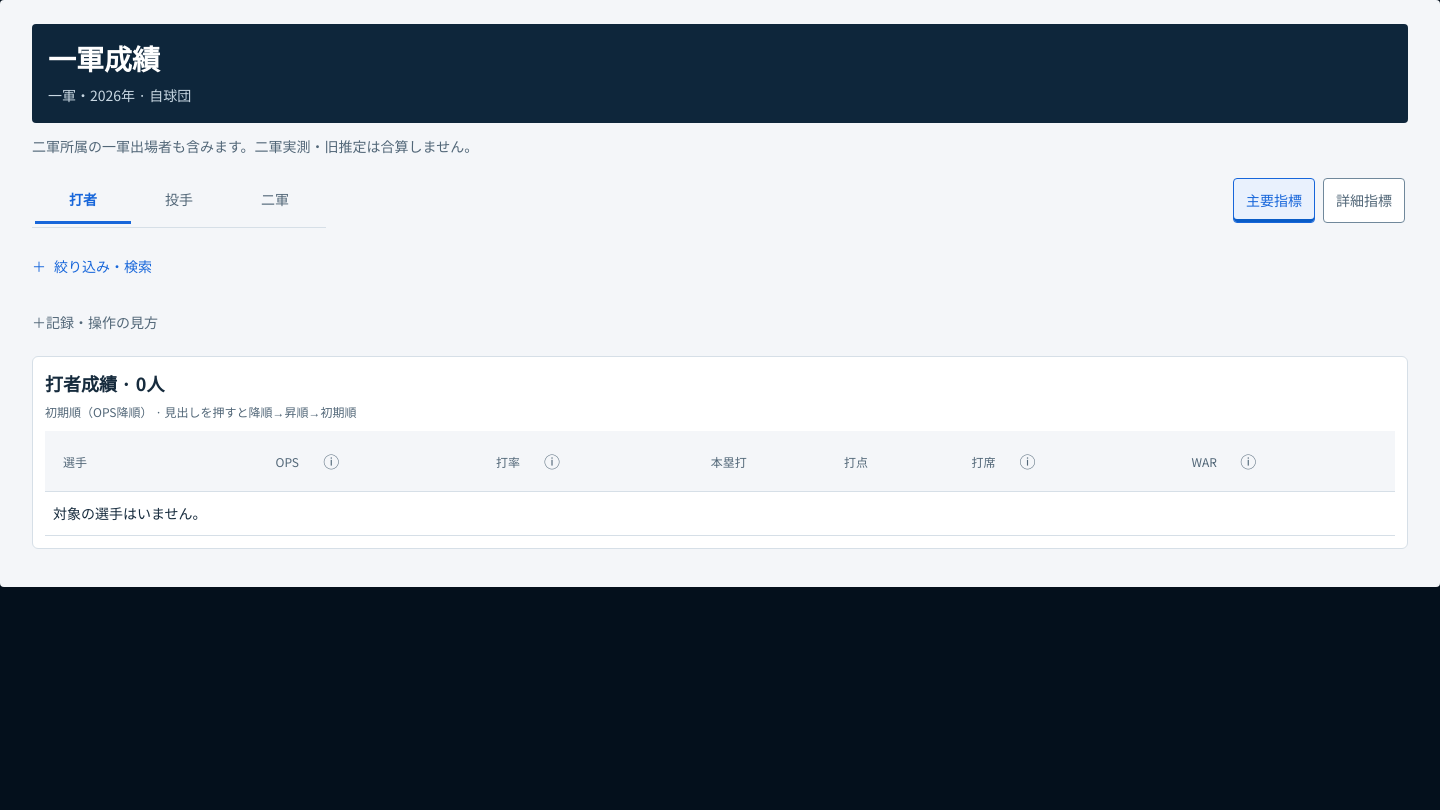
first-team list display and source › handles missing pitcher stats and measured zero innings without NaN
Click the tab "投手". click: click(179, 200)
box: [131, 176, 227, 224]
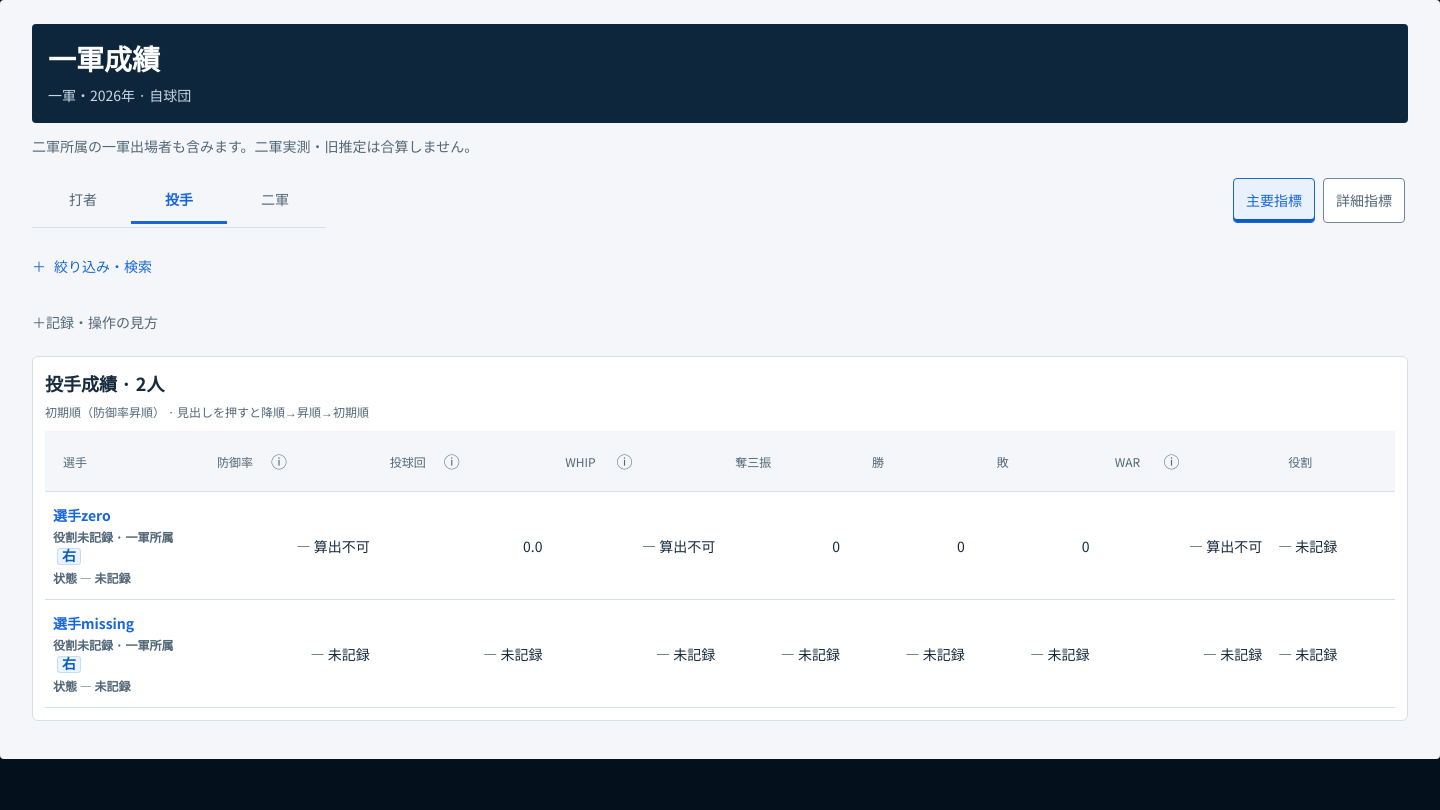
Expected: the 1st cell "— 算出不可" is shown, [205, 492, 378, 600]
Expected: the cell "— 未記録" in the row of "0.0" is shown, [1278, 536, 1337, 556]
